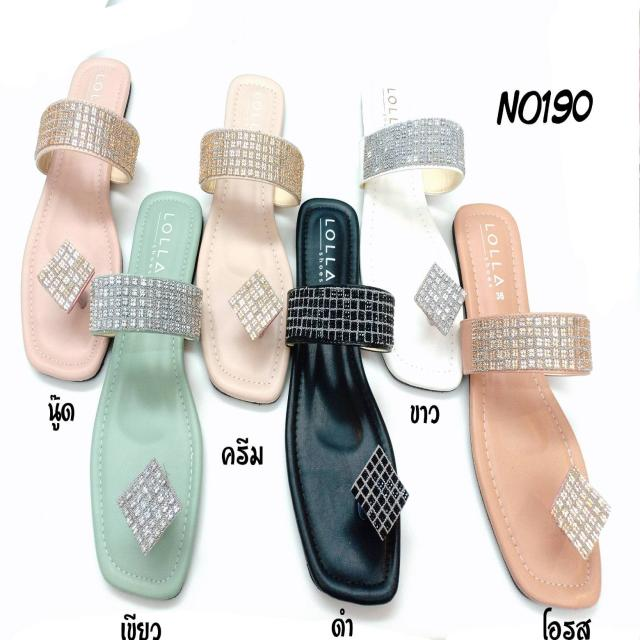black: (291, 195, 401, 603)
cream: (204, 72, 290, 397)
green: (92, 192, 205, 594)
nood: (21, 61, 128, 380)
orot: (458, 208, 602, 606)
white: (359, 72, 465, 395)
